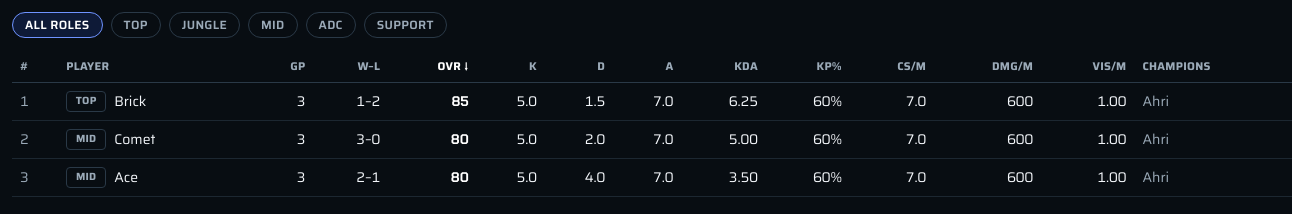
it: StatsTable › filters by role
The image size is (1292, 214).
Click the button "Mid": (273, 25) 248,12 -> 298,38
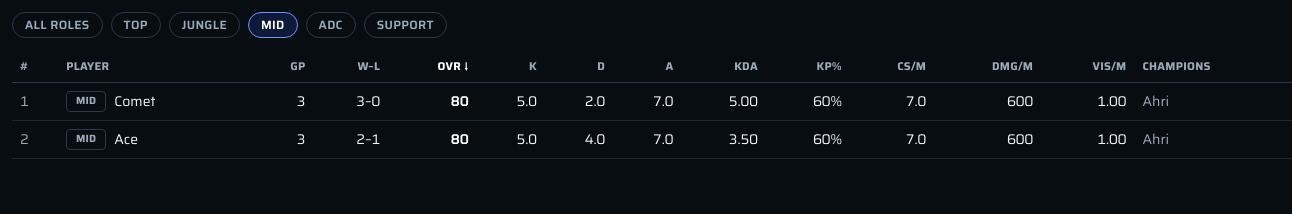
Click the button "Jungle": (204, 25) 169,12 -> 240,38
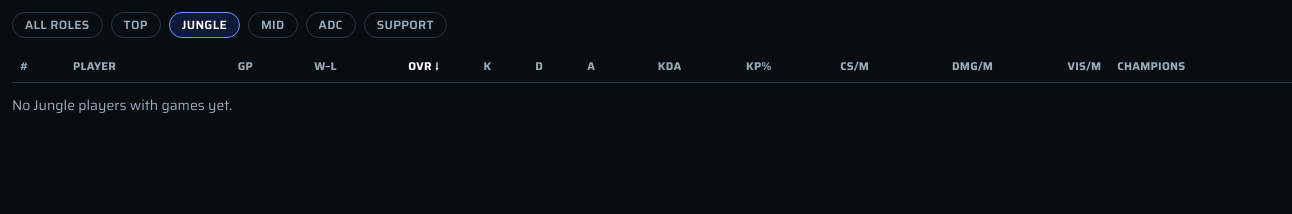
expect the text "No Jungle players with games yet." is shown: met, box 12,94 -> 232,116
